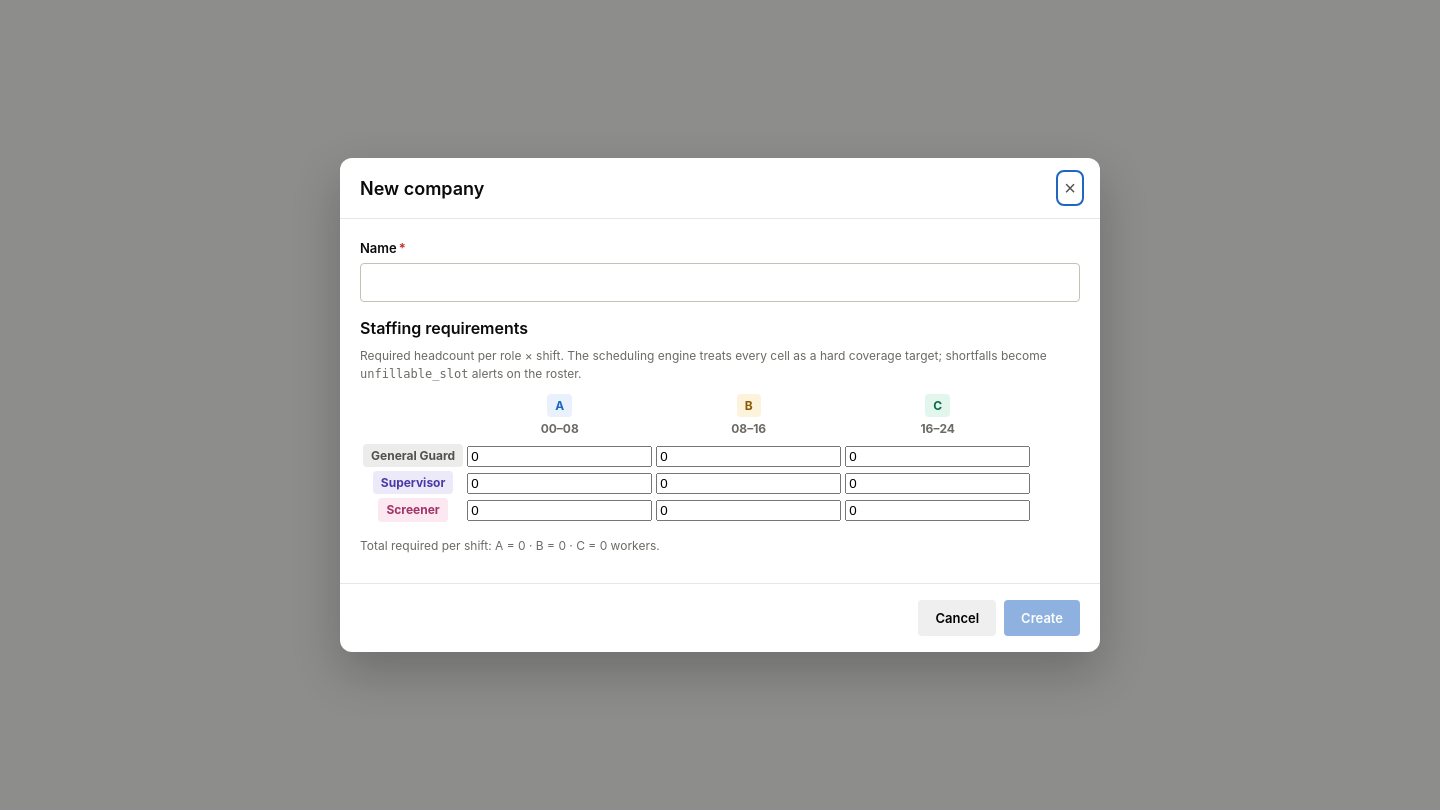
Scenario: CompanyFormModal › create mode › blocks submit and shows an inline per-cell error for a negative headcount before creating anything
Type "New Co" into the field labelled "Name" at (720, 282), box [360, 263, 1080, 302]
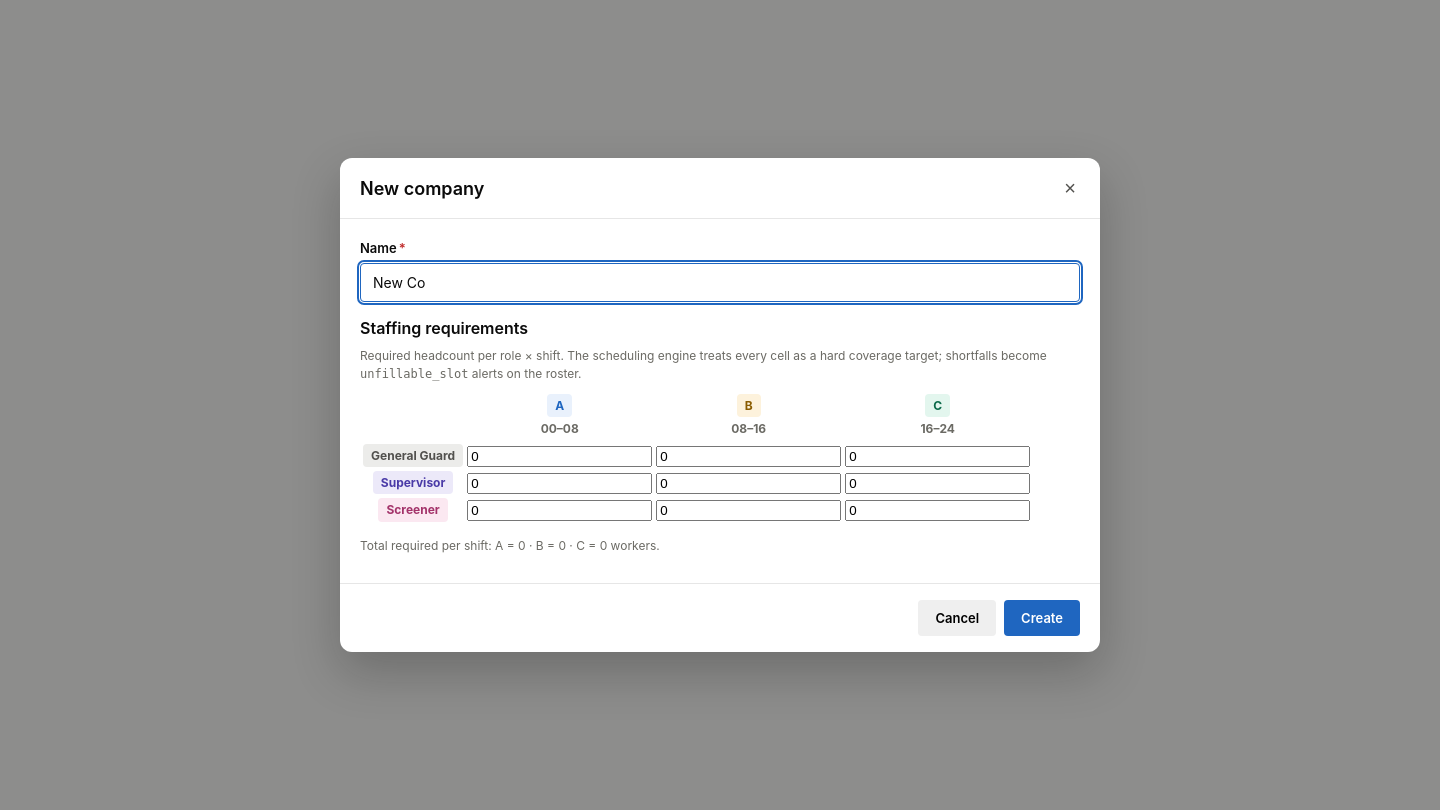
Replace the text in the 1st number field named "General Guard required, Shift A" with "-1" at (560, 456), box [467, 446, 652, 466]
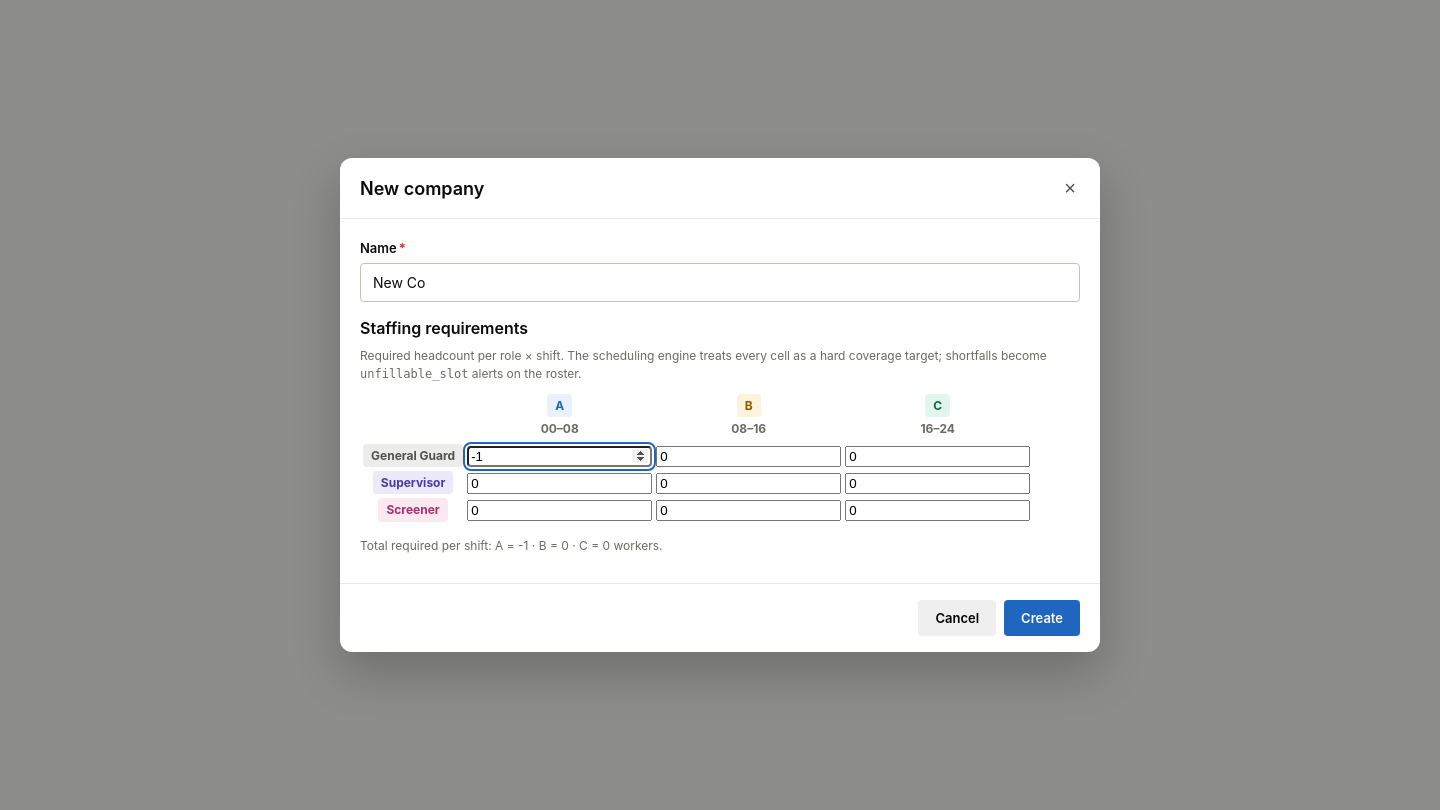
Click the button "Create" at (1042, 618), box [1004, 600, 1080, 636]
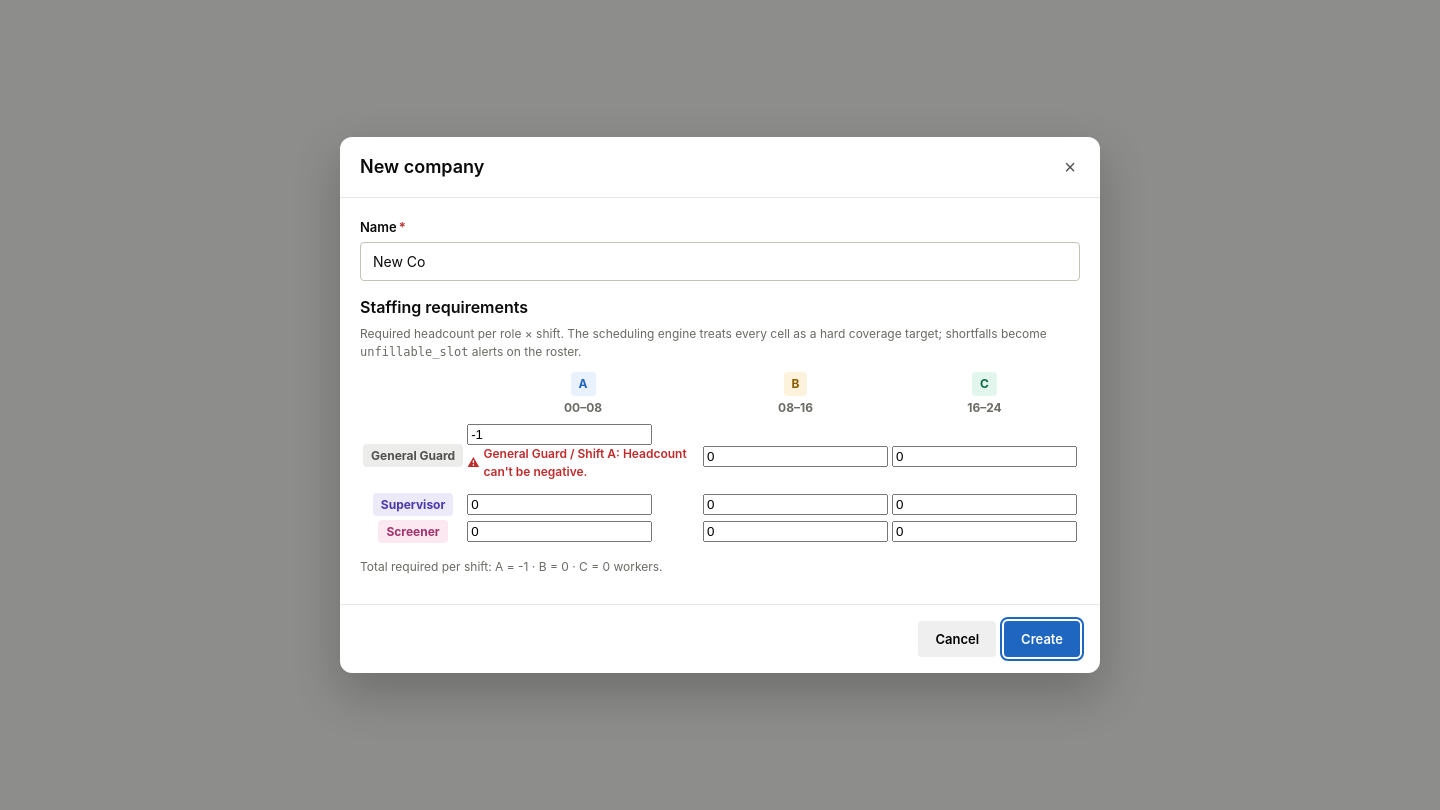
Expected: the text "General Guard / Shift A: Headcount can't be negative." is shown, [467, 444, 699, 480]
